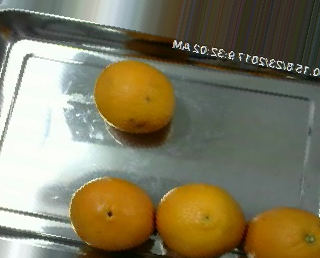Orange: (153, 180, 244, 255), (69, 174, 154, 250), (92, 59, 175, 134), (245, 205, 319, 258)
